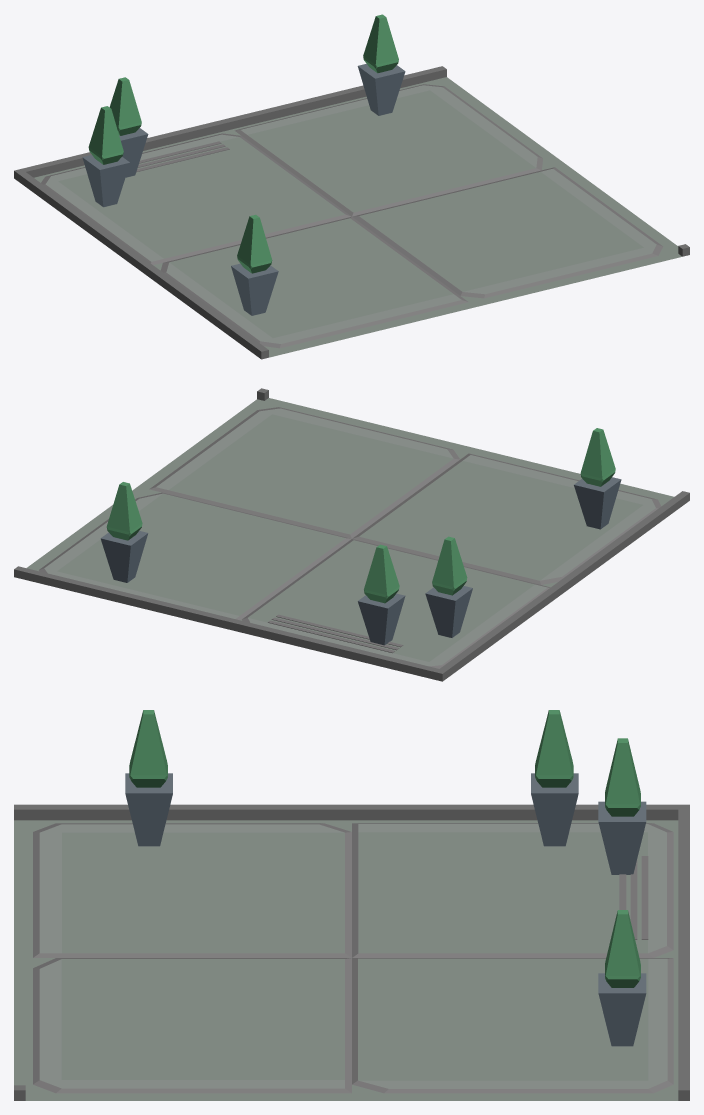
The model's file is Corner_D.gltf.
3 views of the same model, one above another, from view 1: azimuth 30°, elevation 25°; view 2: azimuth 150°, elevation 25°; view 3: azimuth 270°, elevation 25° (orthographic). The views are drawn at different scales.
Parts seen in each view (by area): view 1: Scifi_Panel_03 Plaza014_group4.019; view 2: Scifi_Panel_03 Plaza014_group4.019; view 3: Scifi_Panel_03 Plaza014_group4.019.
Boxes of the visible parts, x1=… form: Scifi_Panel_03 Plaza014_group4.019: x1=14, y1=14, x2=689, y2=359; Scifi_Panel_03 Plaza014_group4.019: x1=14, y1=388, x2=689, y2=681; Scifi_Panel_03 Plaza014_group4.019: x1=14, y1=710, x2=689, y2=1100.
Size of what is drawn, in the model's own units: 10 by 2.2 by 10.
1 material, 1 textured.
